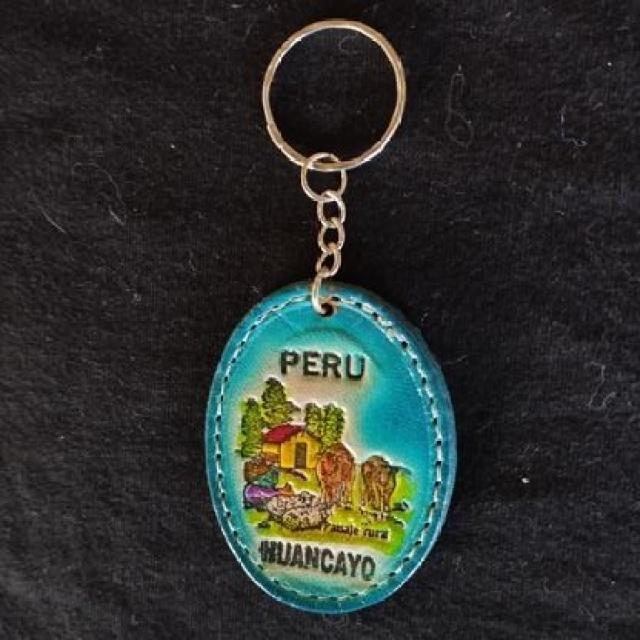Llavero: (203, 278, 459, 616)
